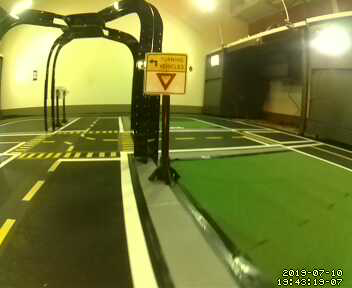Turn Yield: (143, 51, 187, 97)
